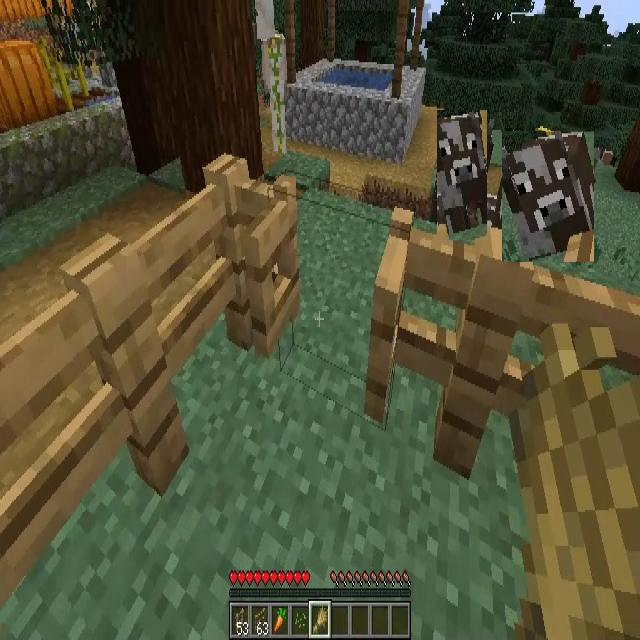cow: (502, 131, 594, 262), (437, 110, 487, 240)
